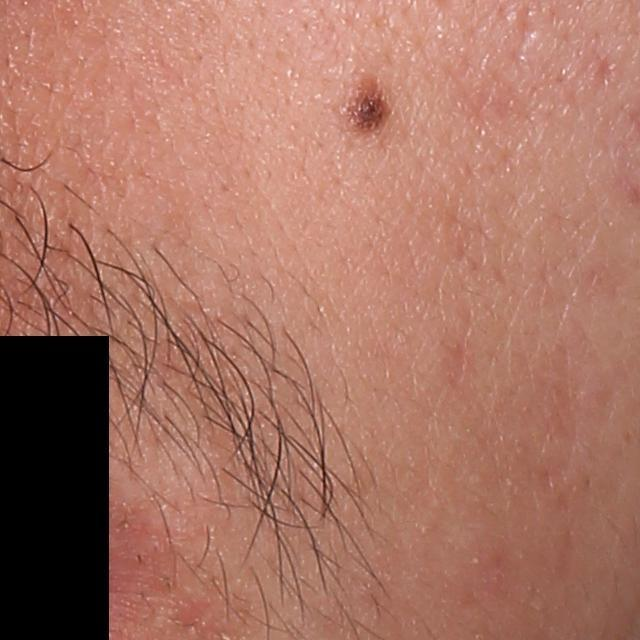nevus: (344, 69, 395, 143)
